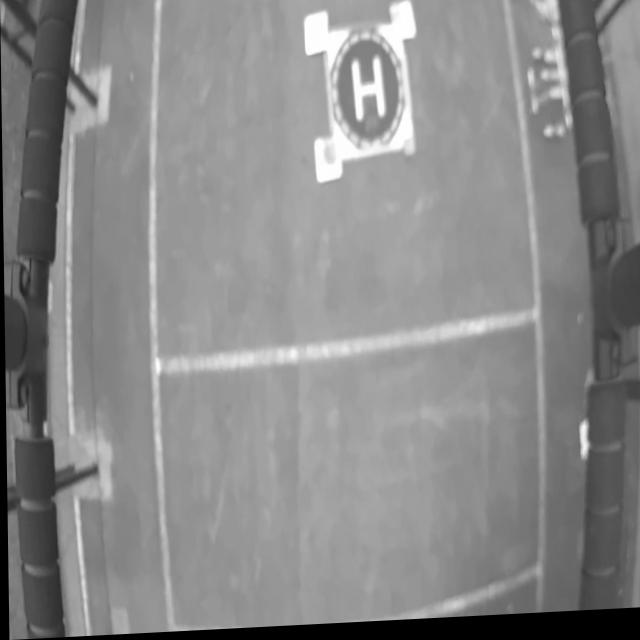Helipad: (351, 60, 387, 125)
